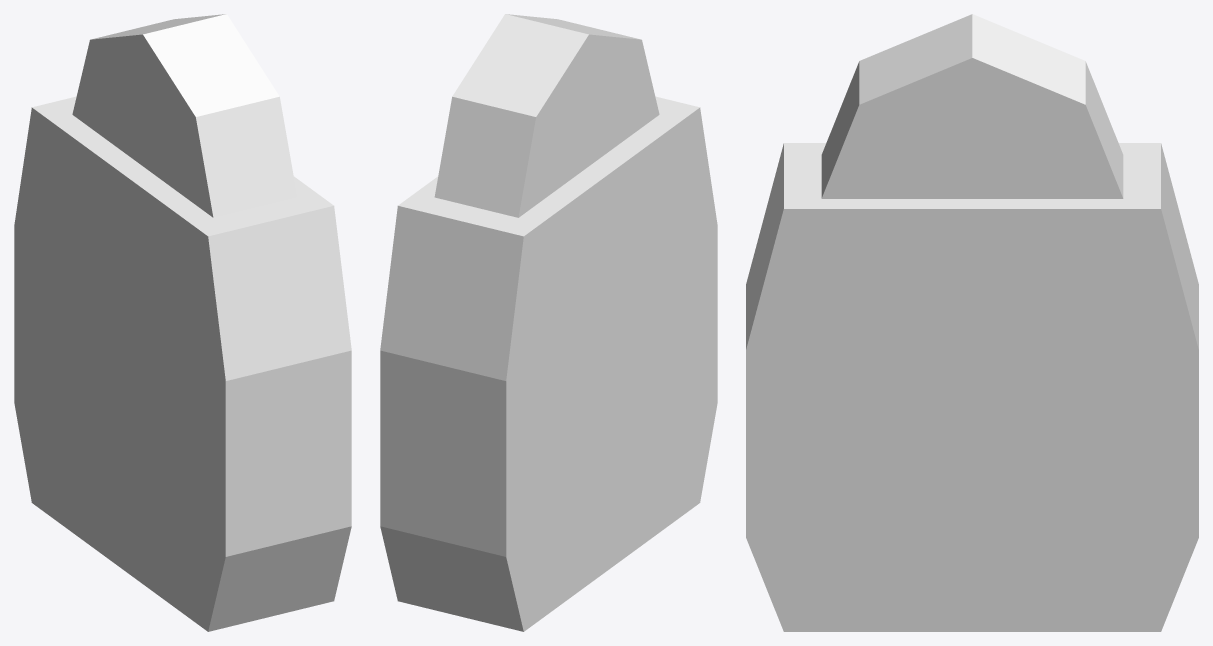
3 renders of one model, left to right at view 1: azimuth 30°, elevation 25°; view 2: azimuth 150°, elevation 25°; view 3: azimuth 270°, elevation 25°, orthographic. The views are drawn at different scales.
Size of the model in its own units: 33 by 132 by 96.
Materials: 1 (1 with a texture image).
